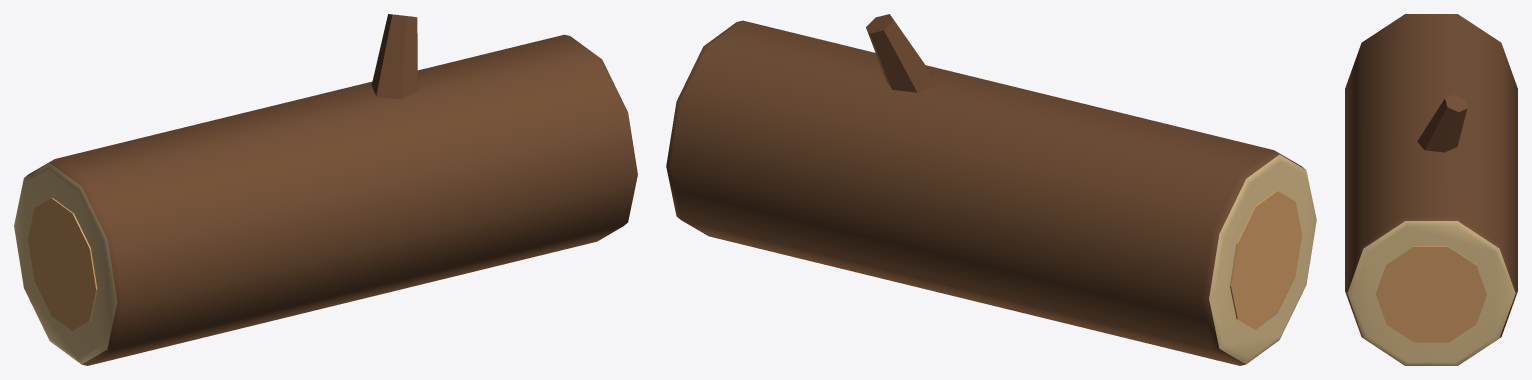
Rendered from Log.fbx.
3 renders of one model, left to right at view 1: azimuth 30°, elevation 25°; view 2: azimuth 150°, elevation 25°; view 3: azimuth 270°, elevation 25°, orthographic. The views are drawn at different scales.
Visible parts, largest first — view 1: Log; view 2: Log; view 3: Log.
Part boxes in pixels (x1=…): Log: x1=14, y1=14, x2=637, y2=365; Log: x1=666, y1=14, x2=1316, y2=365; Log: x1=1345, y1=14, x2=1517, y2=365.
Size of the model in its own units: 4.02 by 1.8 by 1.4.
1 material, 1 textured.
